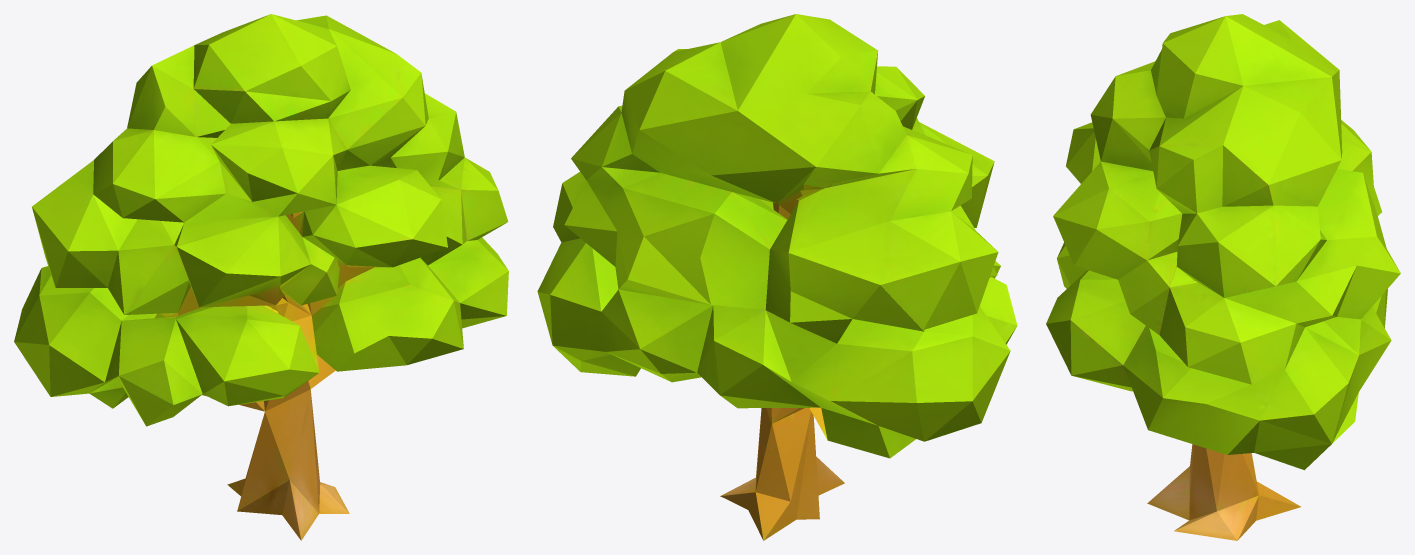
The model's file is leafyTree.glb.
3 views of the same model, side by side, from view 1: azimuth 30°, elevation 25°; view 2: azimuth 150°, elevation 25°; view 3: azimuth 270°, elevation 25° (orthographic).
Parts seen in each view (by area): view 1: model; view 2: model; view 3: model.
Boxes of the visible parts, x1=… form: model: x1=14, y1=14, x2=508, y2=540; model: x1=537, y1=14, x2=1017, y2=540; model: x1=1046, y1=14, x2=1400, y2=540.
Size of the model in its own units: 1.8 by 1.91 by 1.25.
Materials: 1 (1 with a texture image).
